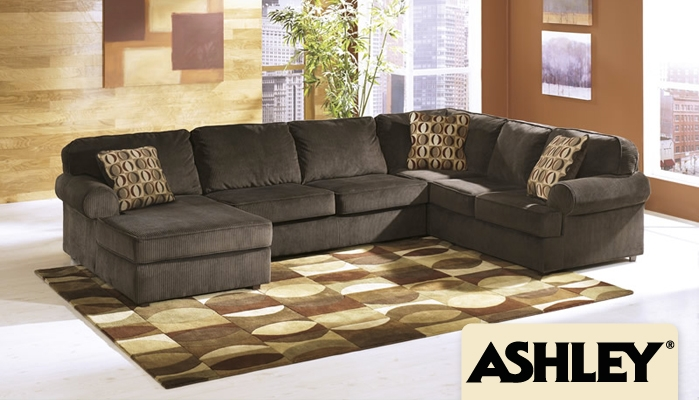chairs: (58, 108, 658, 299)
